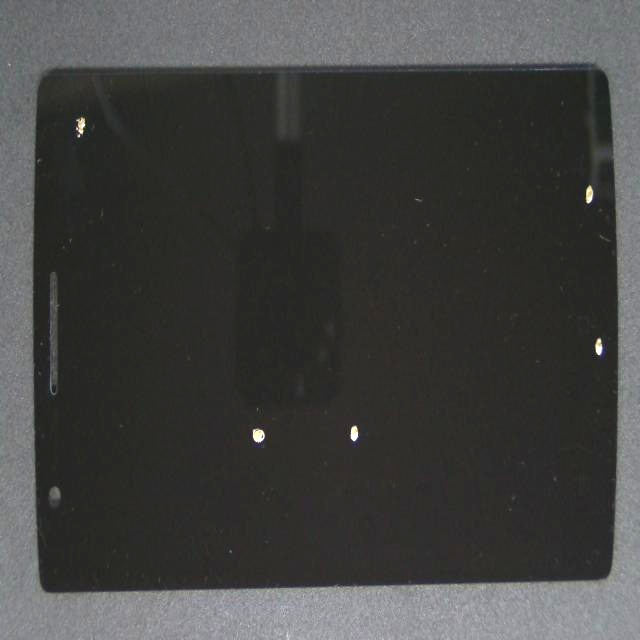stain: (182, 238, 554, 640), (321, 183, 640, 497), (162, 215, 405, 618), (318, 103, 640, 265), (52, 115, 144, 213)
